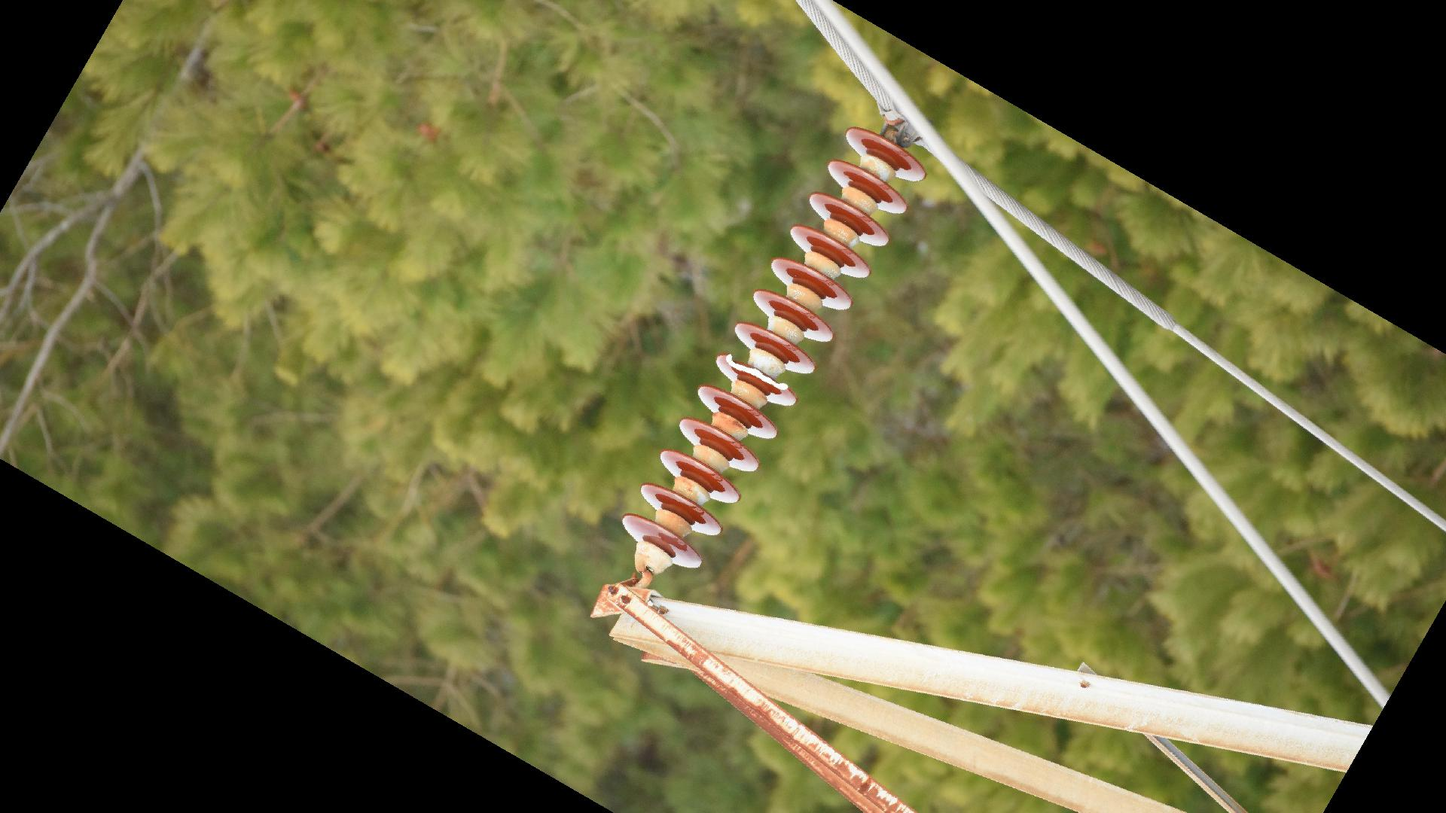insulator: (618, 120, 931, 577)
insulator_breakage: (719, 351, 792, 397)
